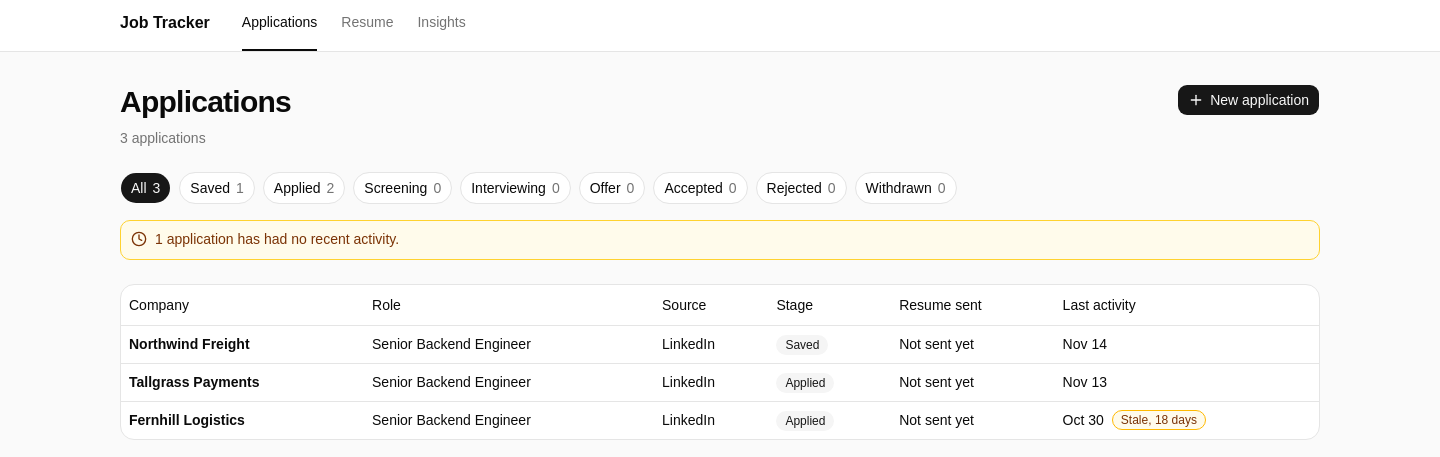
Test case: stage filter pills › clicking a pill asks the API for that stage and keeps the counts
Click the button "Applied 2" at (304, 188), box [263,172,345,204]
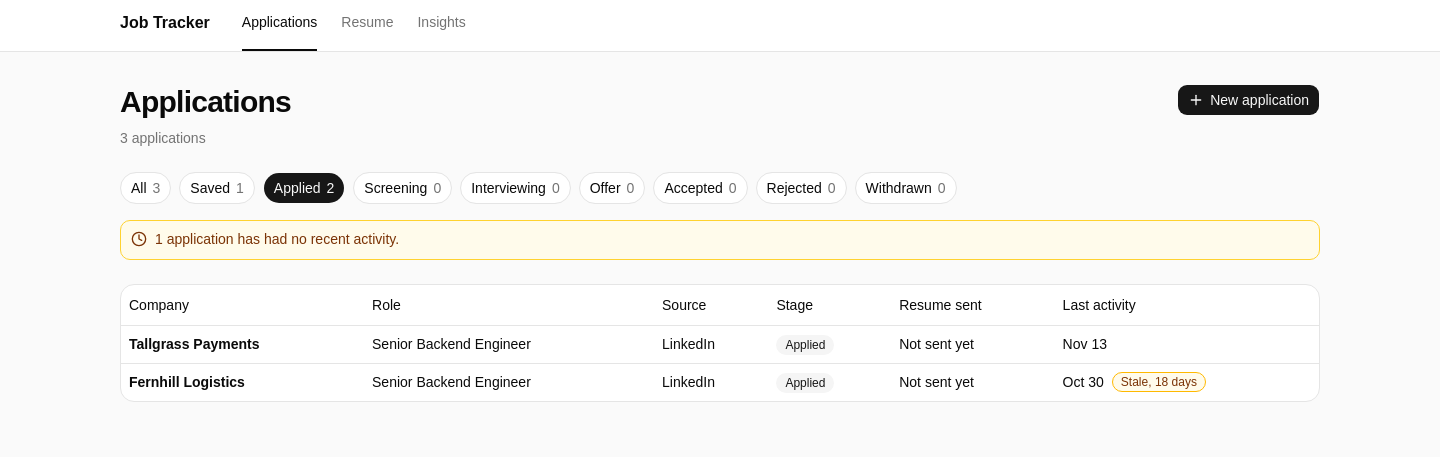
Expected: the link "Tallgrass Payments" is shown, [129,336,260,352]
Expected: the link "Northwind Freight" is gone
